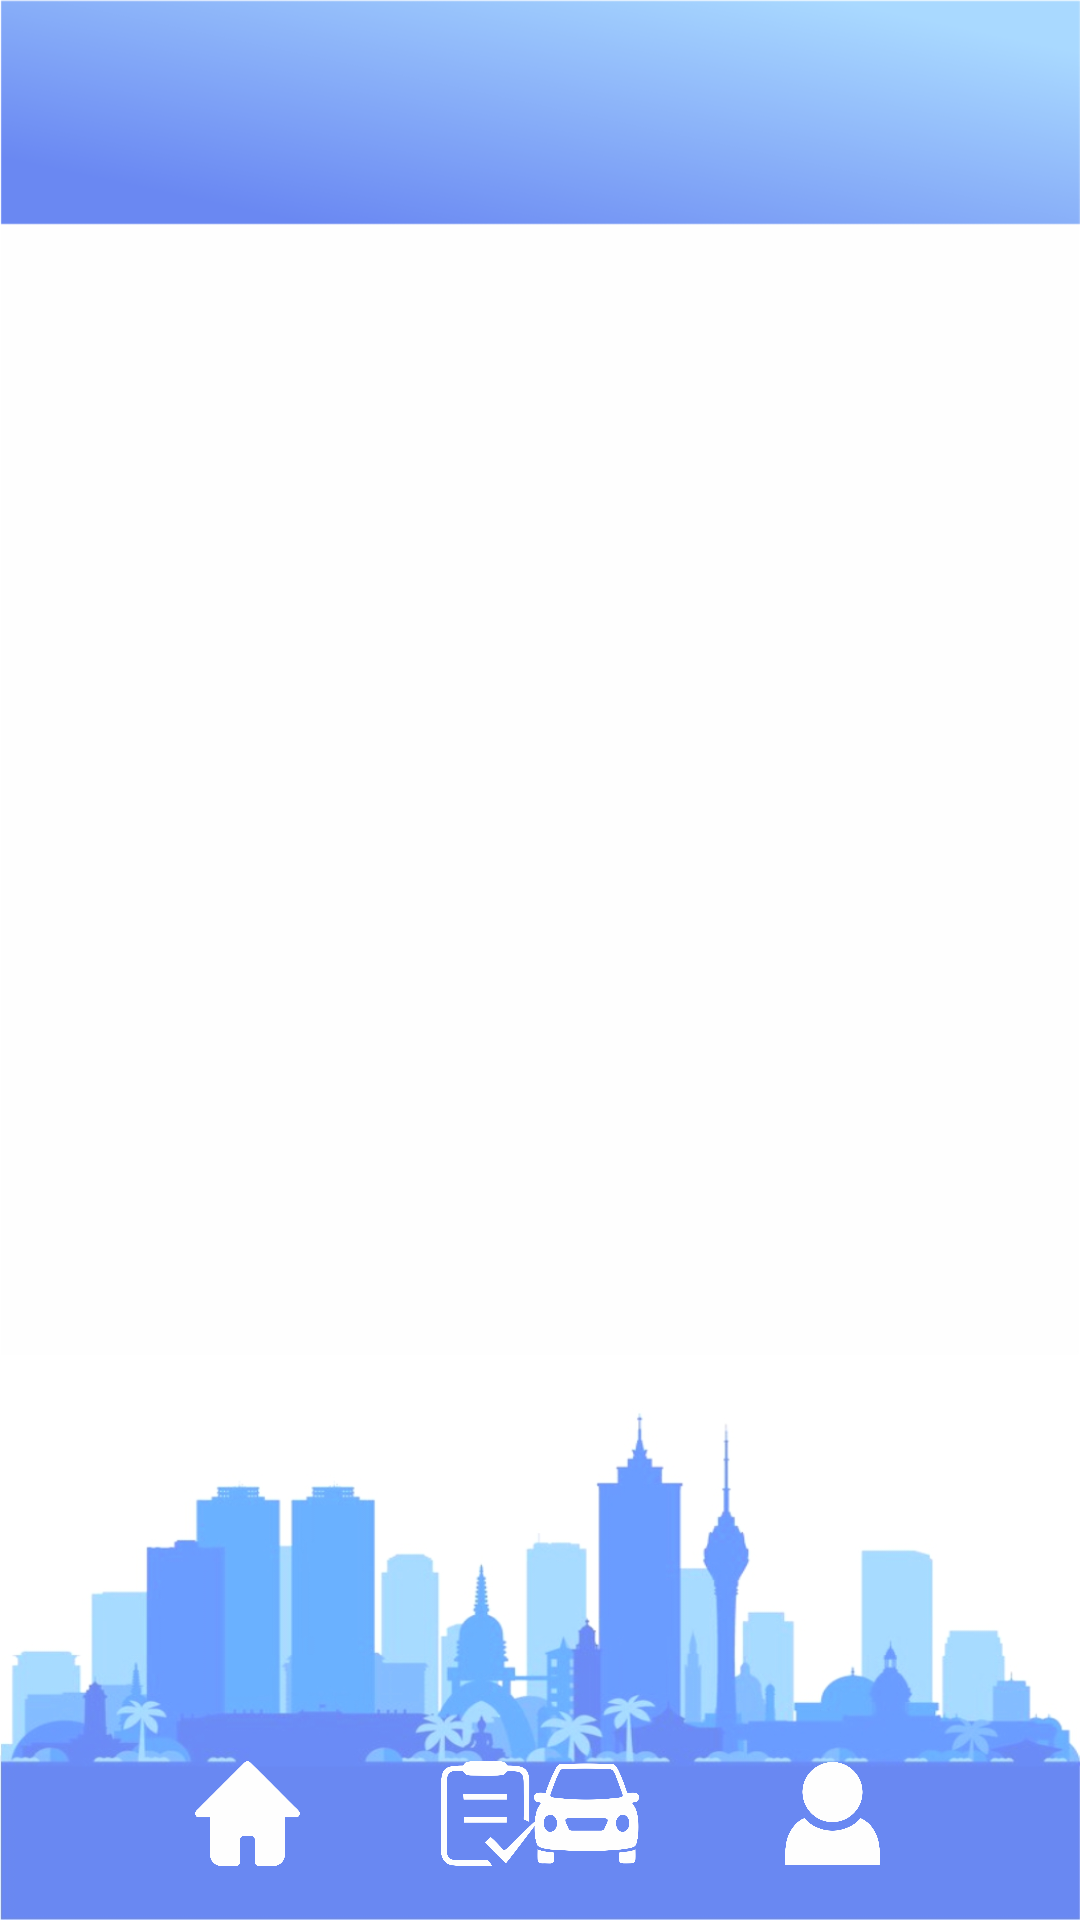

Named icons in this screenshot (1080px×1920px) and their bounding boxes, box=[x1, y1, x2, y2]:
home: box=[195, 1761, 300, 1866]
vehicle: box=[534, 1761, 639, 1864]
